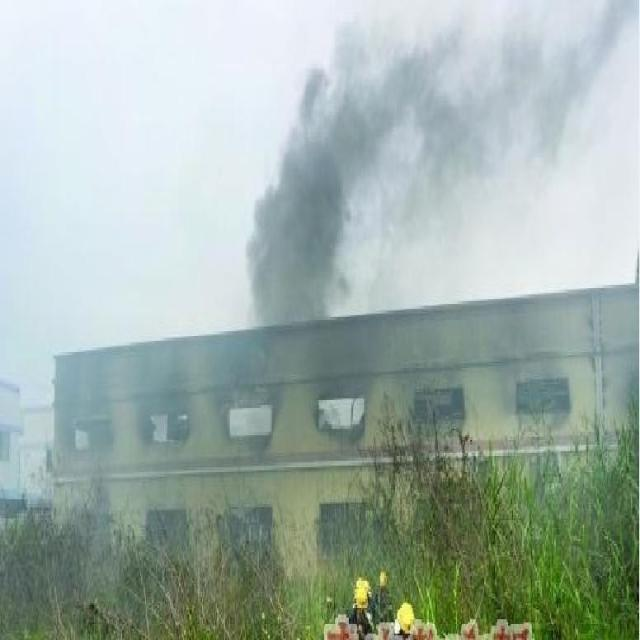Smoke: (244, 1, 640, 324)
